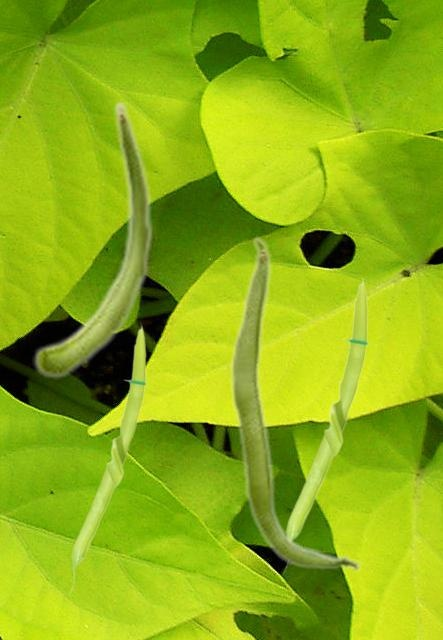french_bean: (228, 235, 362, 572), (32, 99, 153, 378), (282, 276, 370, 574), (68, 322, 148, 595)
